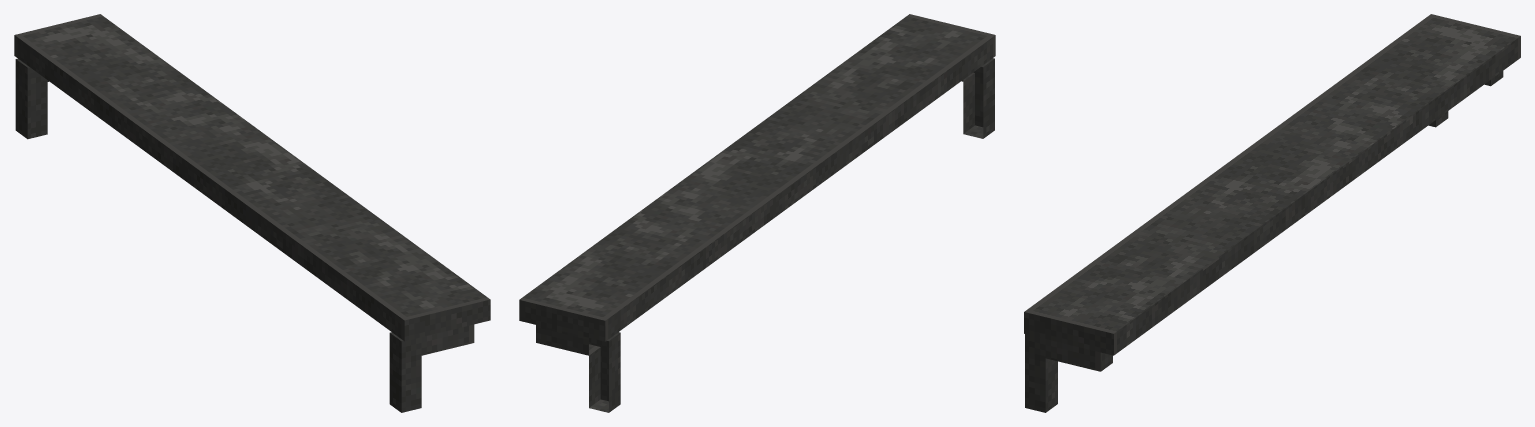
File: Mensola.fbx
The picture shows the model from 3 angles, left to right: view 1: azimuth 30°, elevation 25°; view 2: azimuth 150°, elevation 25°; view 3: azimuth 330°, elevation 25°; orthographic projection. The views are drawn at different scales.
Parts seen in each view (by area): view 1: mensola; view 2: mensola; view 3: mensola.
Part boxes in pixels (x1=…): mensola: x1=14, y1=14, x2=490, y2=412; mensola: x1=519, y1=14, x2=995, y2=412; mensola: x1=1024, y1=14, x2=1520, y2=412.
Bounding box in the file's own units: 0.1835 × 0.1882 × 1.42.
1 material, 1 textured.
